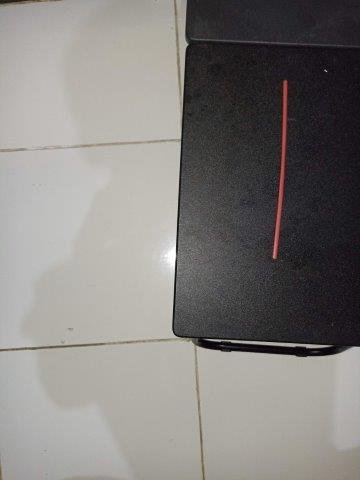sedotan: (272, 80, 288, 258)
